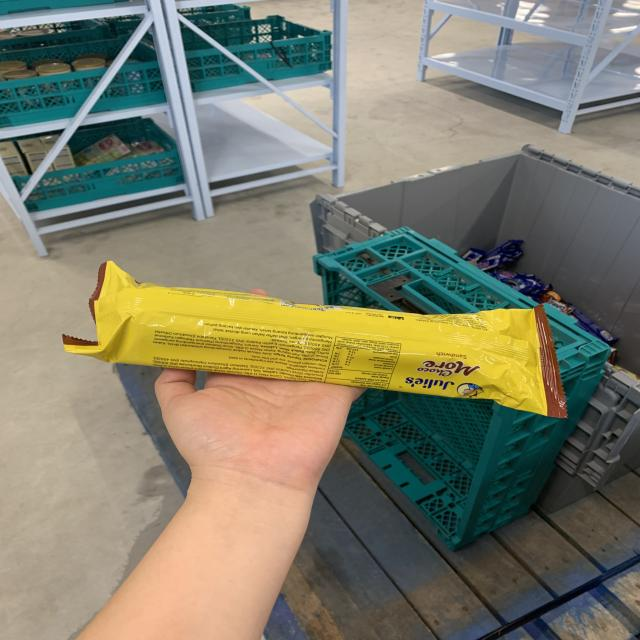object_name: (93, 275, 533, 398)
